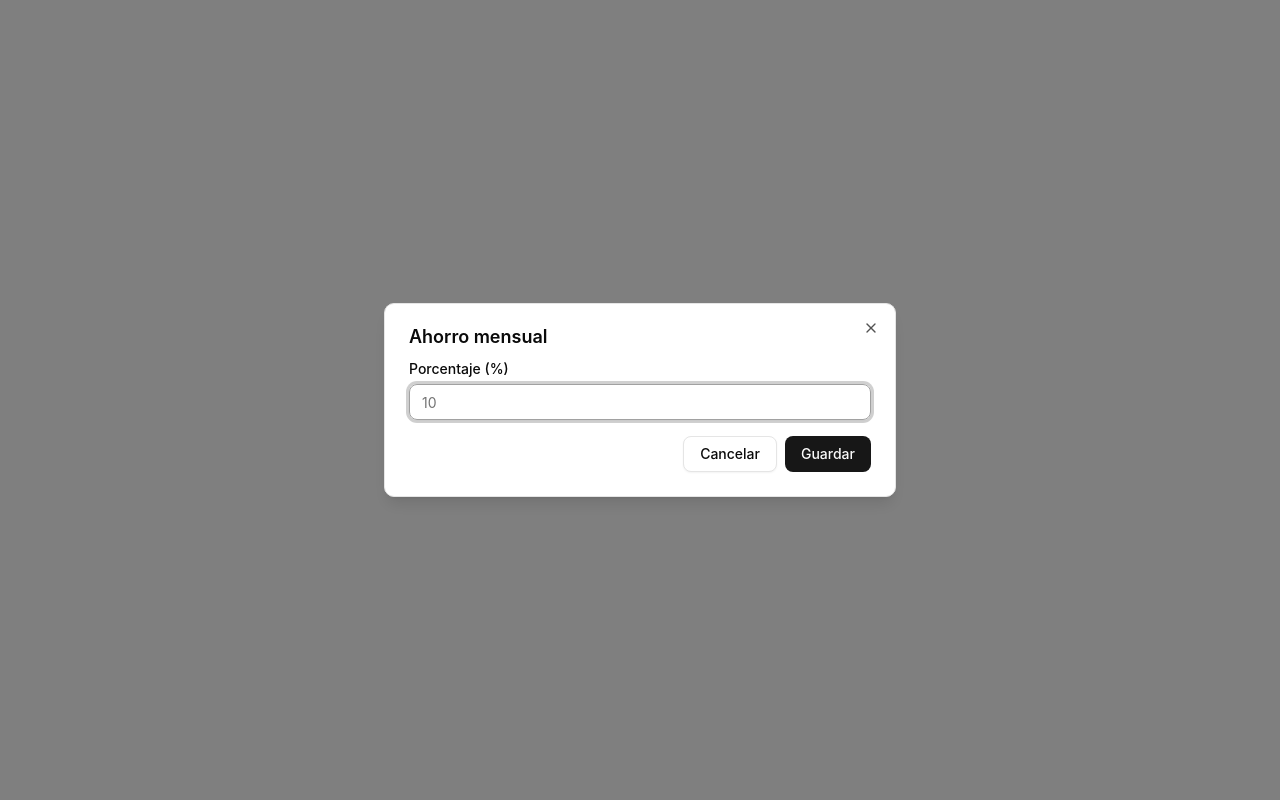
Test: SavingsConfigDialog › errores por campo con role=alert, valor conservado y diálogo abierto
What coordinates should you click on to do the following:
click the button "Guardar"
I would click on:
 (828, 454)
Its box is [785, 436, 871, 472].
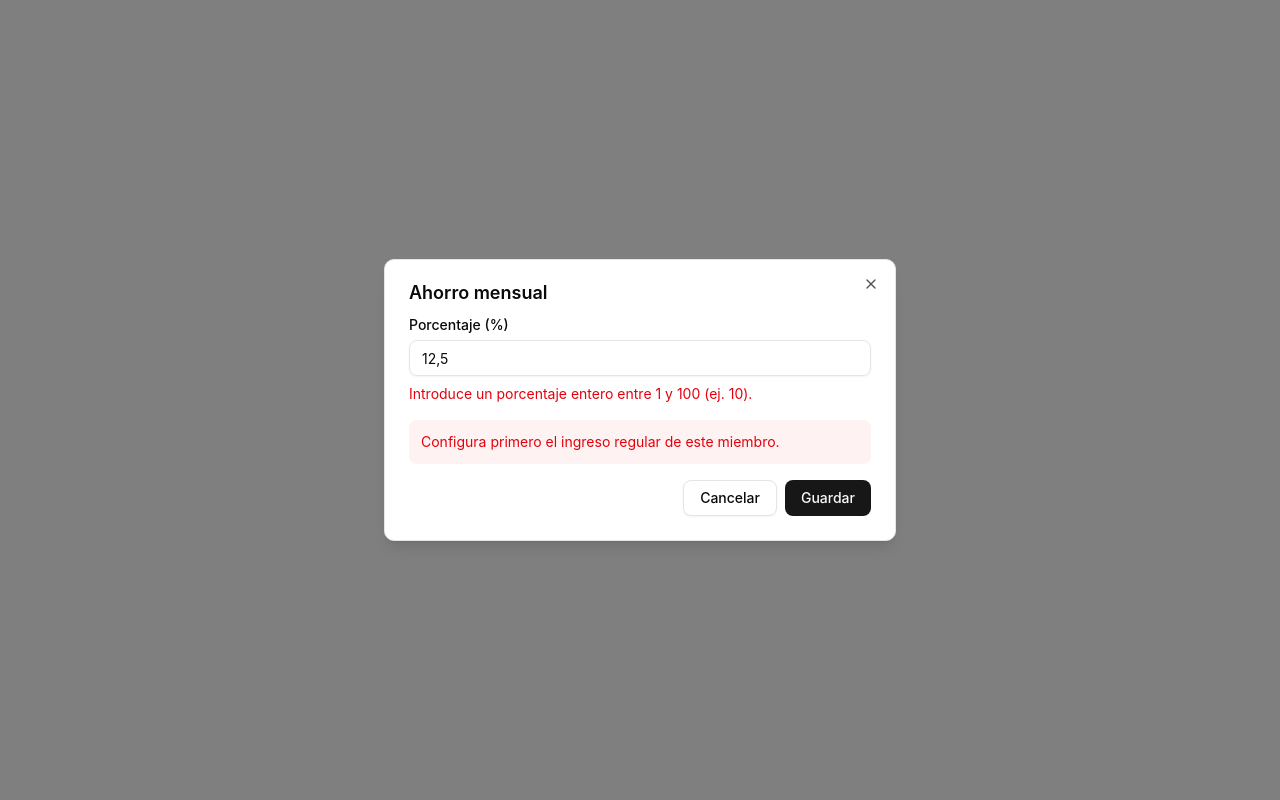
expect the messages read "Introduce un porcentaje entero entre 1 y 100 (ej. 10).", "Configura primero el ingreso regular de este miembro.", in this order: met, box [409, 385, 752, 402]; [409, 420, 871, 464]
expect the field labelled "Porcentaje (%)" holds "12,5": met, box [409, 340, 871, 376]
